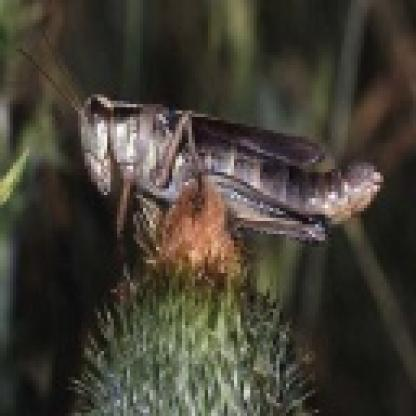grasshopper: (43, 74, 400, 254)
